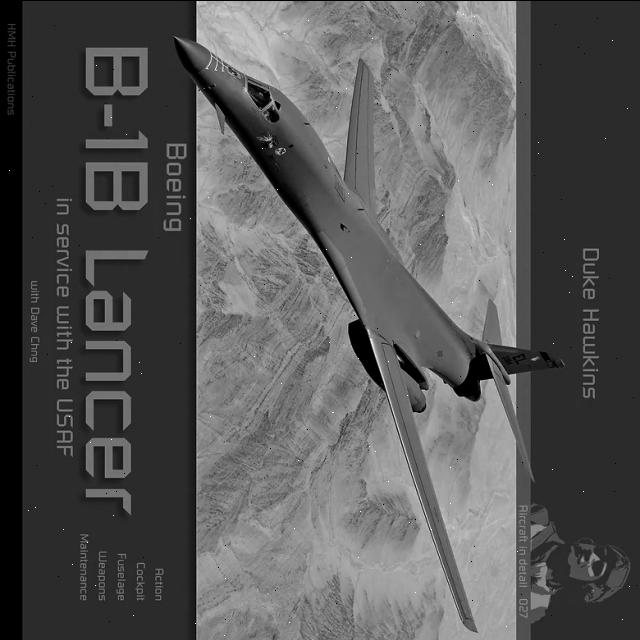B1: (162, 21, 564, 640)
